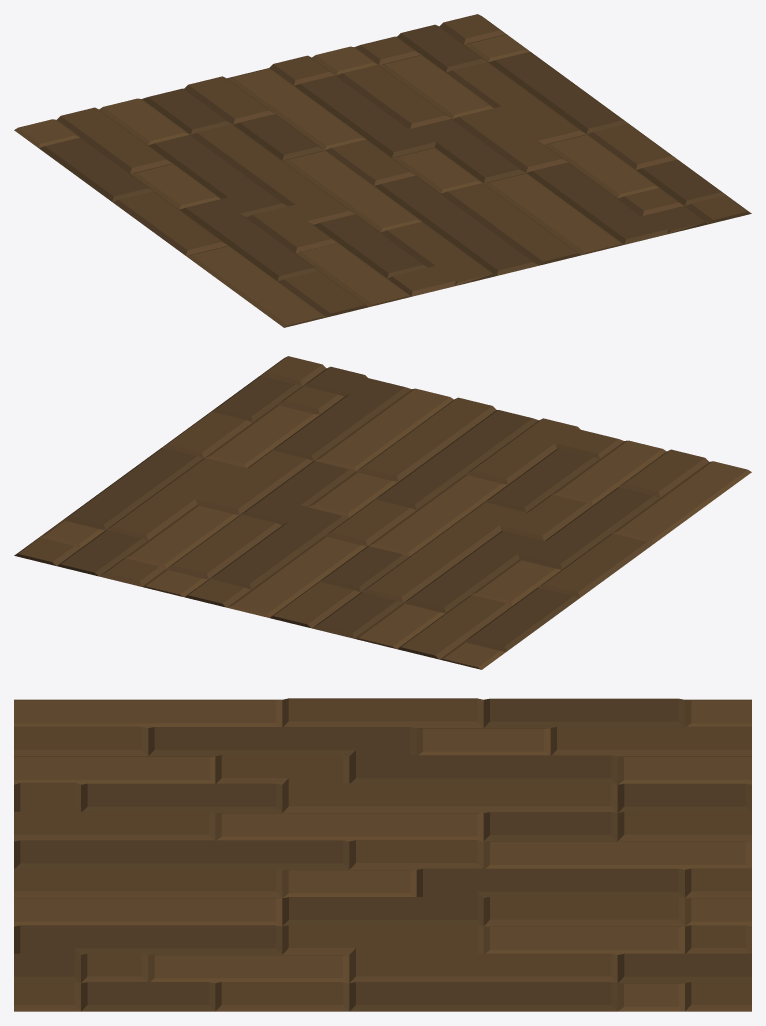
File: Wooden Floor 2.fbx
3 renders of one model, top to bottom at view 1: azimuth 30°, elevation 25°; view 2: azimuth 150°, elevation 25°; view 3: azimuth 270°, elevation 25°, orthographic. The views are drawn at different scales.
Visible parts, largest first — view 1: Plane.001; view 2: Plane.001; view 3: Plane.001.
Boxes of the visible parts, box(x1,y1,x2,y2) form: Plane.001: box(14, 14, 751, 327); Plane.001: box(14, 356, 751, 669); Plane.001: box(14, 698, 751, 1011).
Size of the model in its own units: 1 by 0.00615 by 1.
